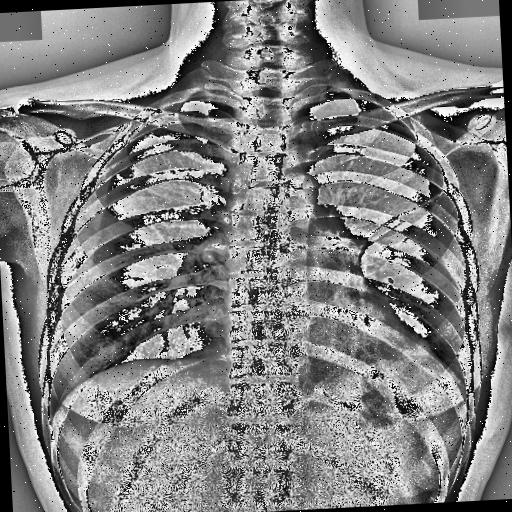13- Pulmonary fibrosis: (360, 188, 450, 244), (362, 192, 445, 240)
3- Cardiomegaly: (224, 312, 434, 387)
9- Other lesion: (354, 188, 452, 273), (306, 214, 364, 300)
